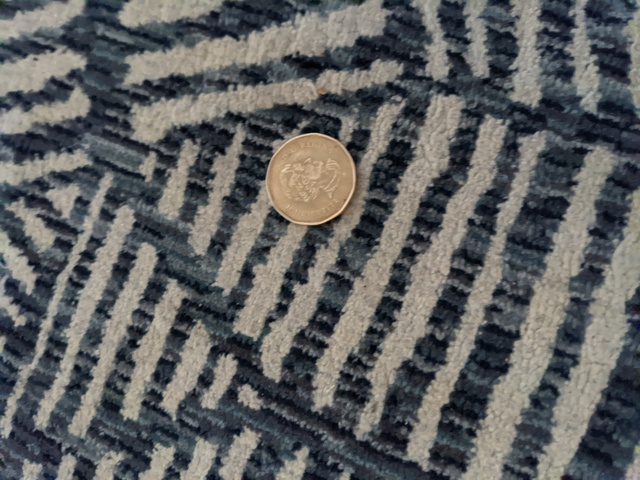loonie: (259, 132, 358, 239)
